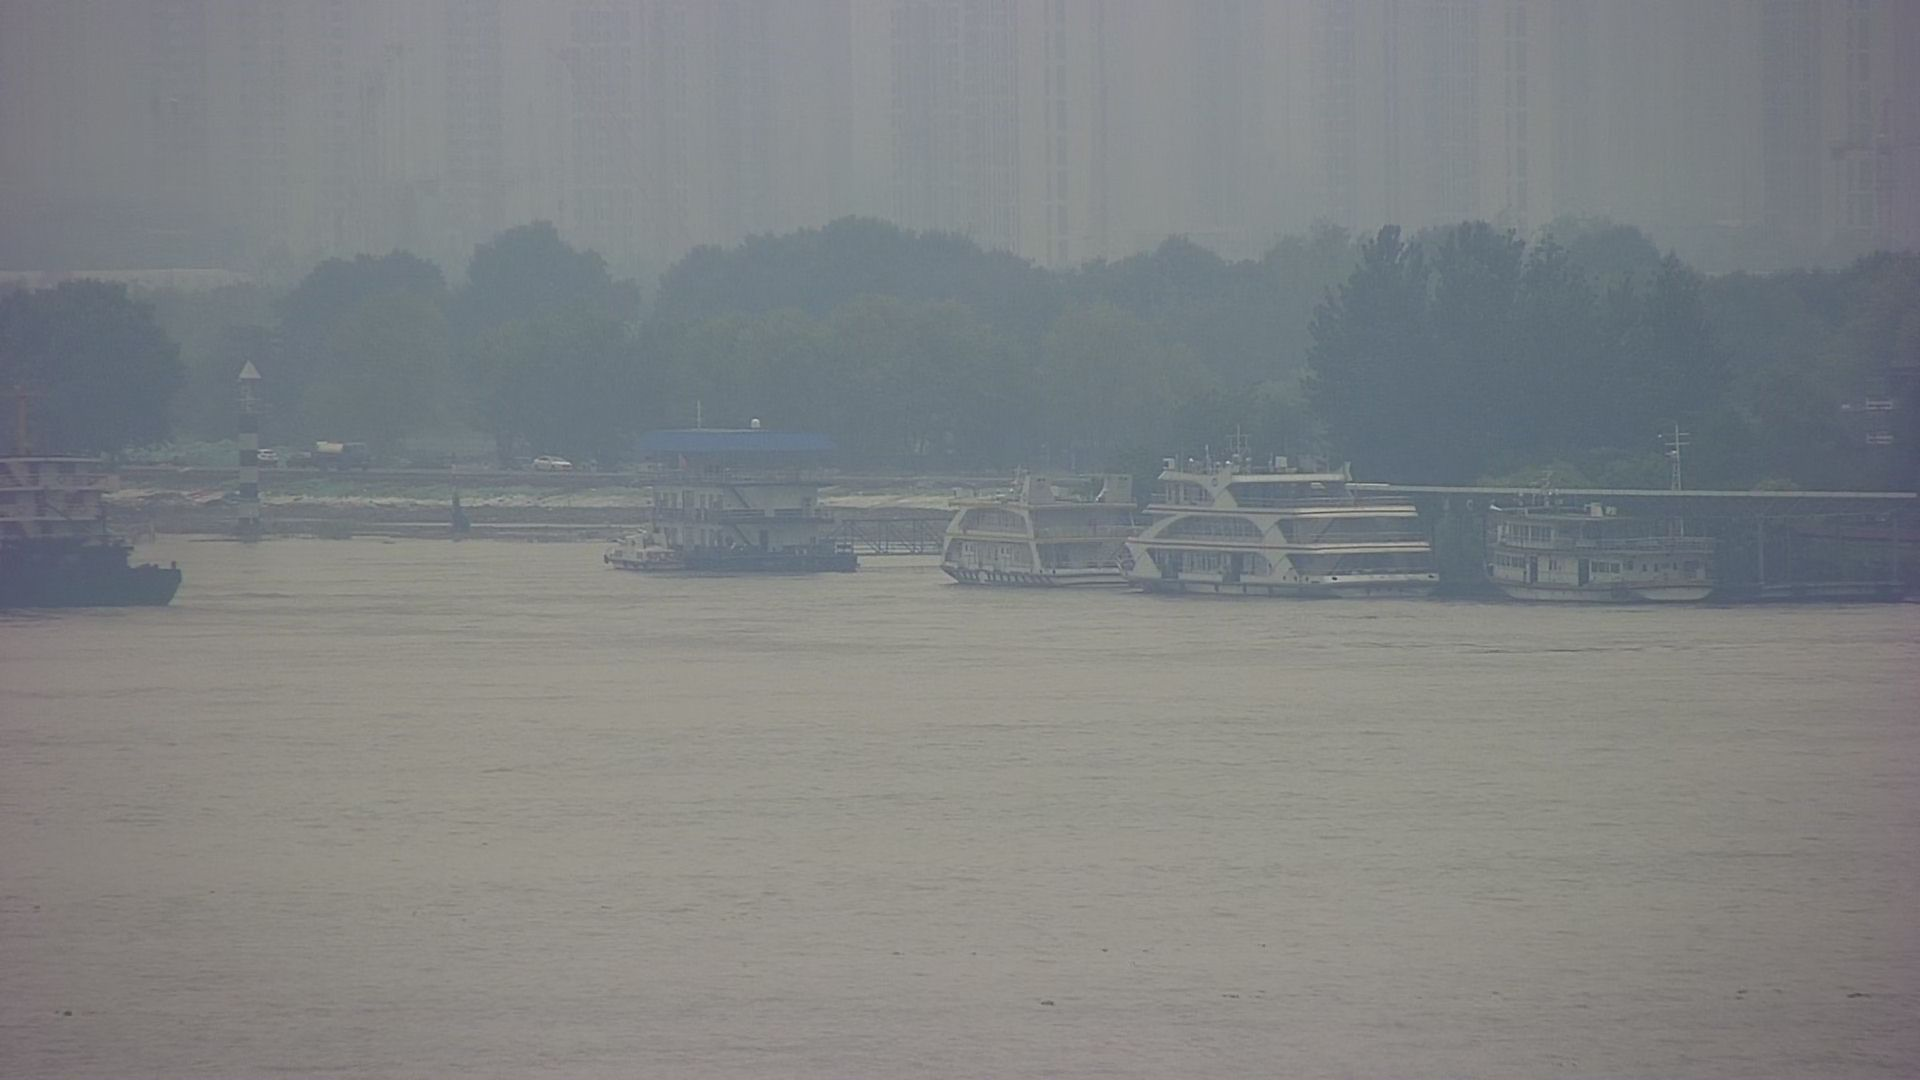ship: (1125, 405, 1458, 608), (578, 380, 887, 582), (1, 392, 237, 611), (1480, 462, 1756, 615), (930, 451, 1130, 593)
